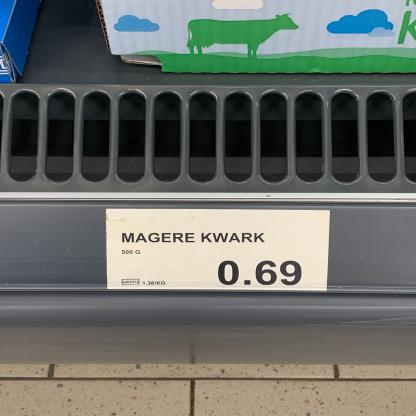prtg: (107, 210, 331, 291)
